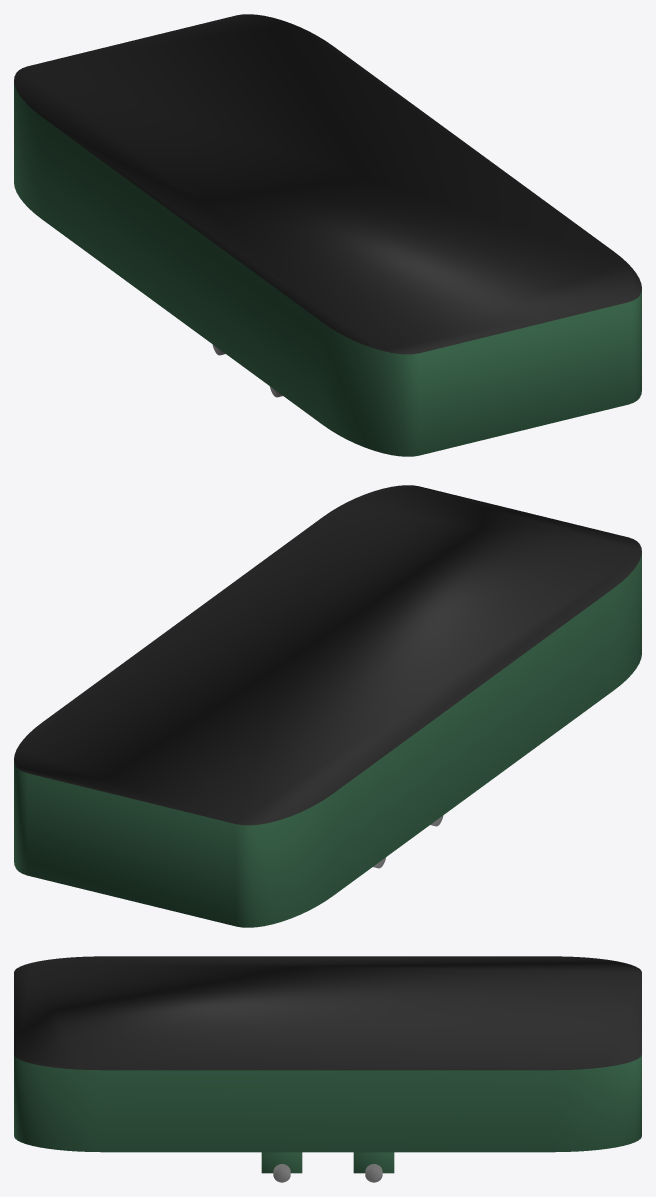
Rendered from carga-flexion2puntos.gltf.
The picture shows the model from 3 angles, top to bottom: view 1: azimuth 30°, elevation 25°; view 2: azimuth 150°, elevation 25°; view 3: azimuth 270°, elevation 25°; orthographic projection. The views are drawn at different scales.
Visible parts, largest first — view 1: carga2puntos; view 2: carga2puntos; view 3: carga2puntos.
Boxes of the visible parts, left/top/right/bottom form: carga2puntos: left=14, top=14, right=641, bottom=456; carga2puntos: left=14, top=485, right=641, bottom=927; carga2puntos: left=14, top=956, right=641, bottom=1182.
Size of the model in its own units: 0.5862 by 0.33 by 1.37.
